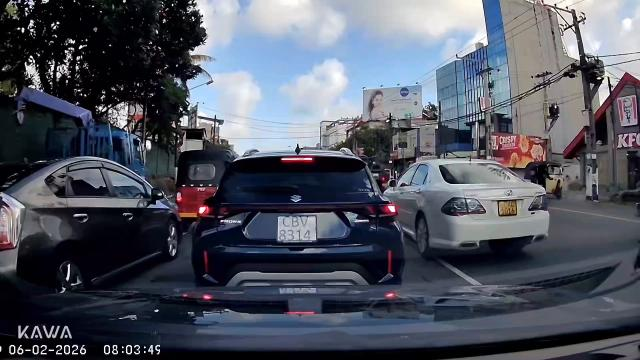illegal overtaking: (390, 157, 555, 263)
number plate: (276, 212, 323, 253), (493, 194, 523, 223)
